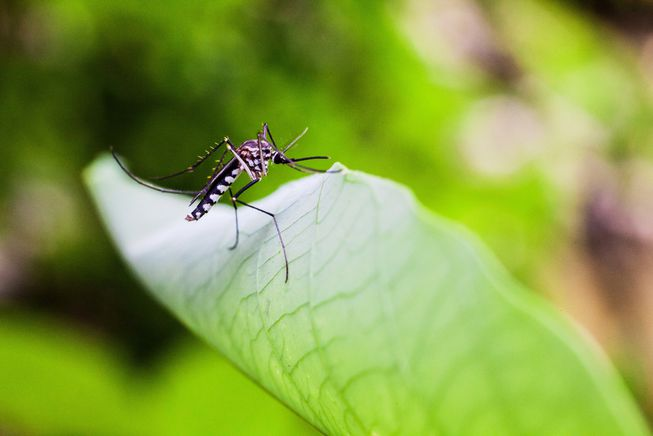mosquito: (99, 112, 356, 289)
